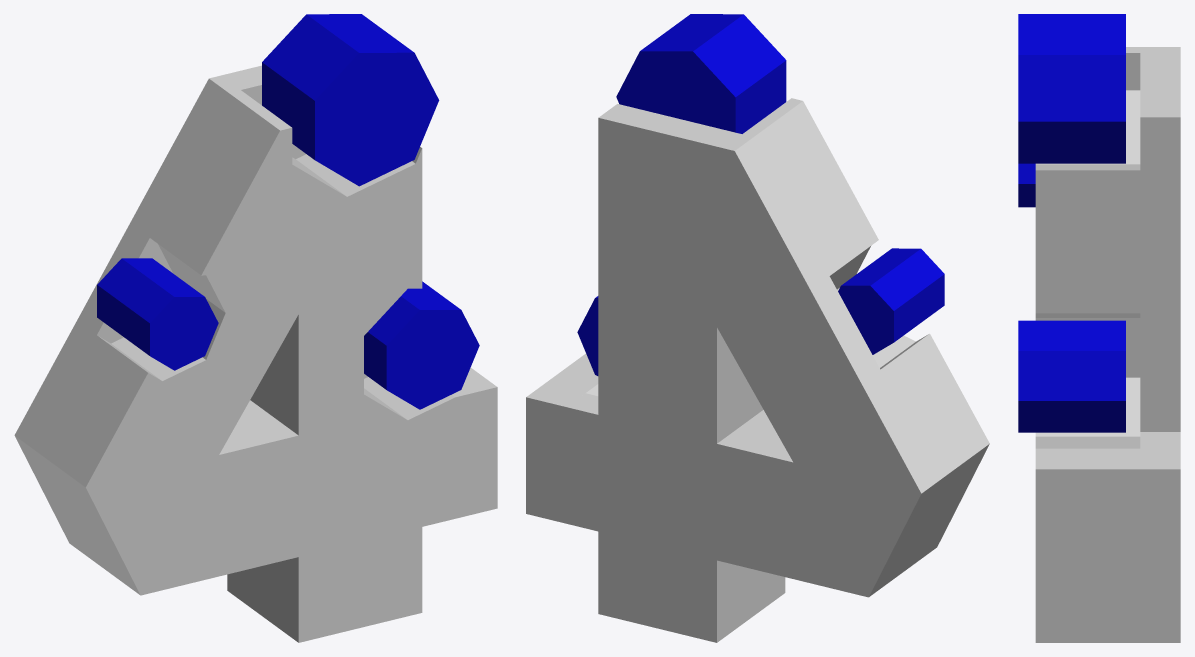
File: Ch_Lite_4_01.fbx
3 renders of one model, left to right at view 1: azimuth 30°, elevation 25°; view 2: azimuth 150°, elevation 25°; view 3: azimuth 270°, elevation 25°, orthographic. The views are drawn at different scales.
Parts seen in each view (by area): view 1: sphere1; view 2: sphere1; view 3: sphere1.
Boxes of the visible parts, left/top/right/bottom form: sphere1: left=14, top=14, right=497, bottom=642; sphere1: left=526, top=14, right=989, bottom=642; sphere1: left=1018, top=14, right=1180, bottom=642.
Bounding box in the file's own units: 0.667 × 0.9033 × 0.2242.
